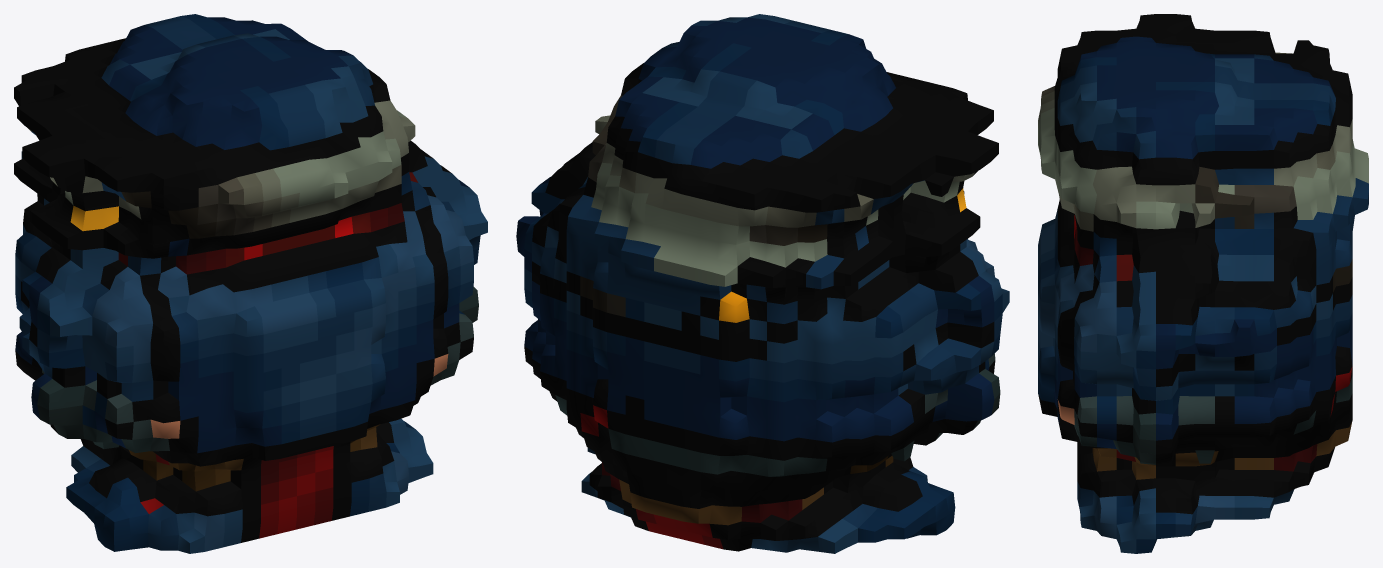
Rendered from Icon_727_02.obj.
The picture shows the model from 3 angles, left to right: view 1: azimuth 30°, elevation 25°; view 2: azimuth 150°, elevation 25°; view 3: azimuth 270°, elevation 25°; orthographic projection. The views are drawn at different scales.
Size of the model in its own units: 2.4 by 2.3 by 1.68.
1 material, 1 textured.
